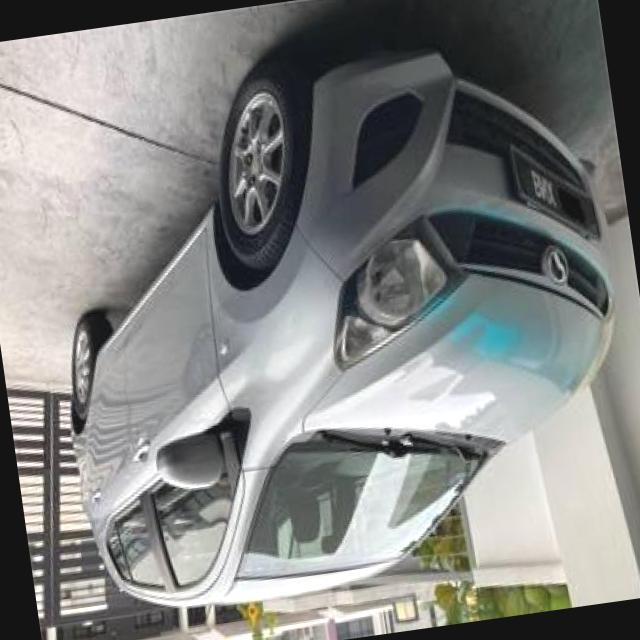PeroduaAxia: (20, 11, 640, 627)
